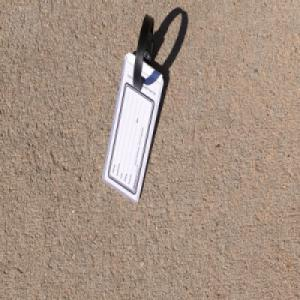LuggageTag: (102, 11, 165, 204)
